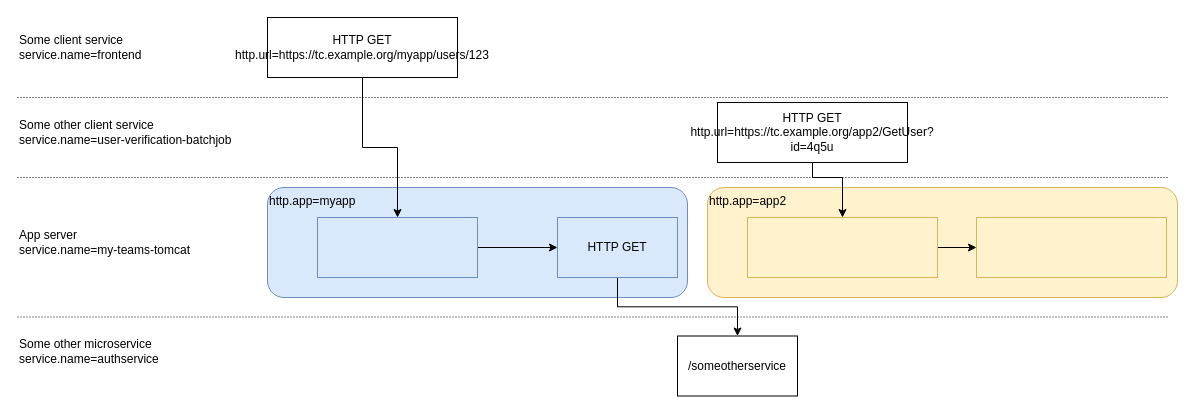
The diagram is 1195 pixels wide and 414 high, and some of its shapes have lost their labels. Each missing label, with the centre of its shape:
/app2/GetUser: pixel 842 247
/myapp/users/{userid}: pixel 397 247
SELECT app2.Users: pixel 1071 247
